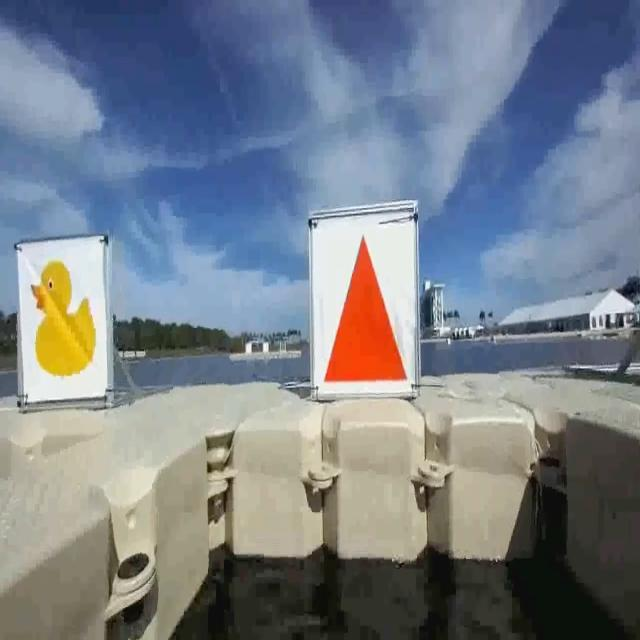red-dot: (311, 220, 414, 400)
yellow-duck: (20, 244, 108, 404)
